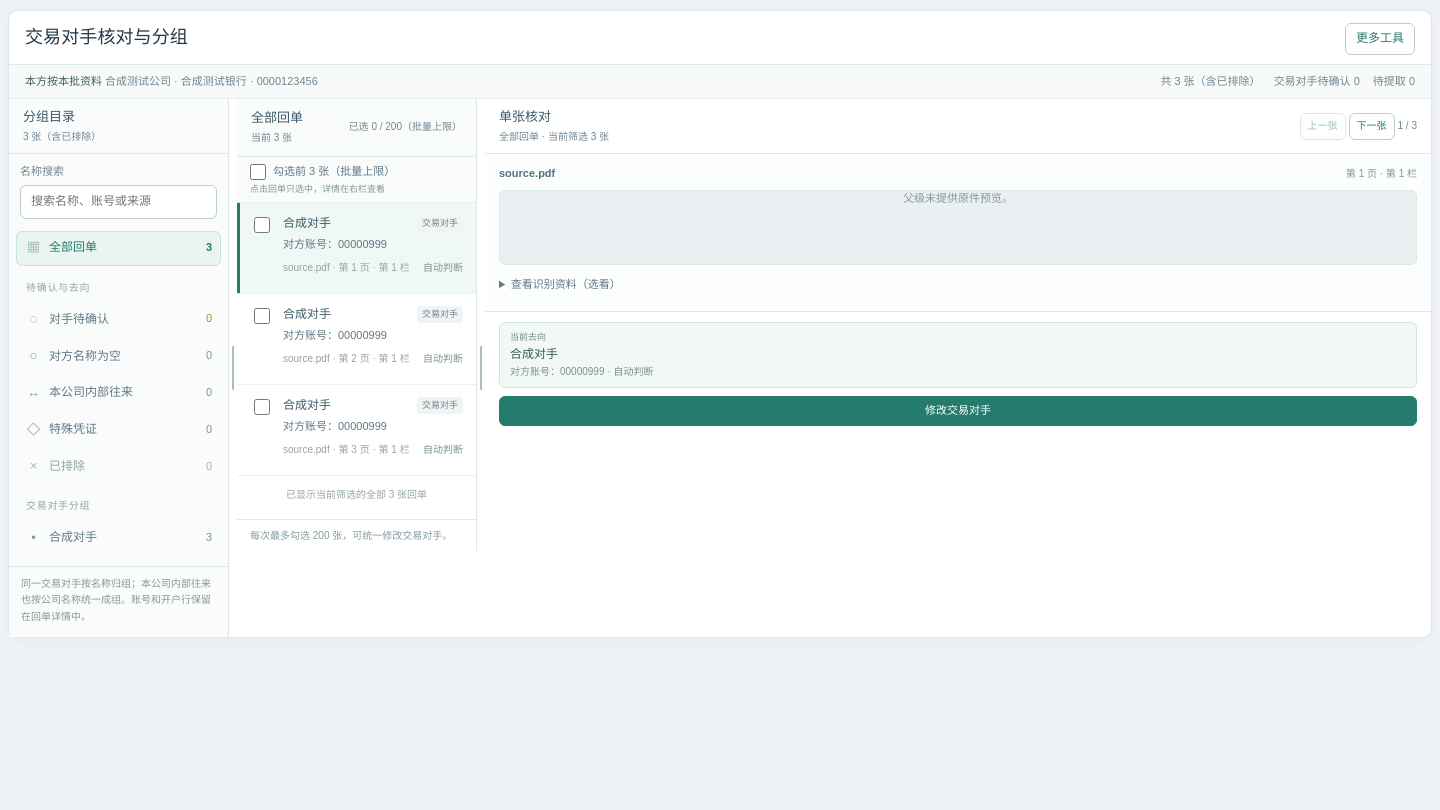
Scenario: ReceiptGroupingPanel navigation › 小于批量上限时显示实际快捷勾选数量，搜索变化清空隐形勾选
Expected: the text "共 3 张（含已排除）" is shown, [1160,74,1261,89]
Click the checkbox labelled "勾选前 3 张（批量上限）". click: x=258, y=172
box: [250,164,266,180]
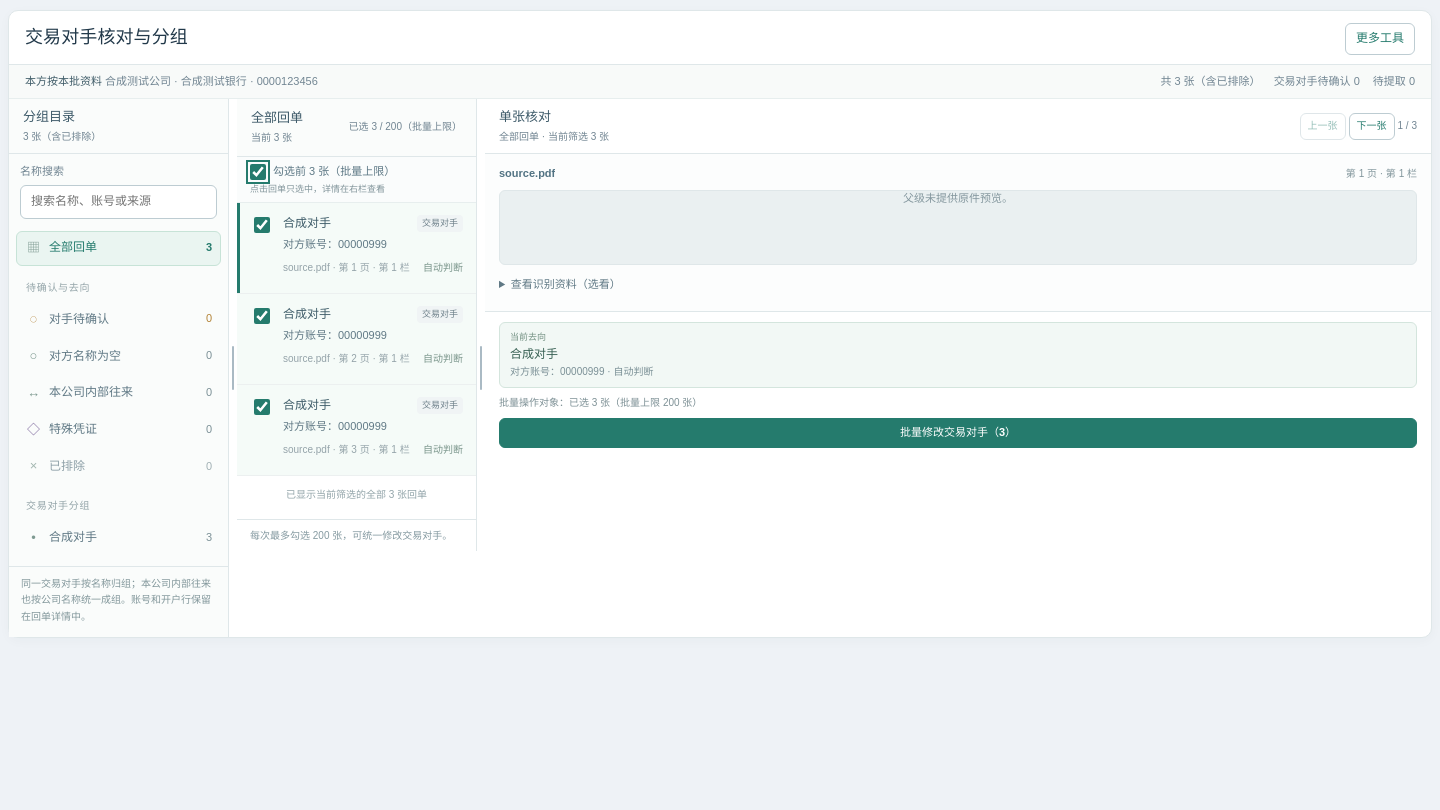
Expected: the text "已选 3 / 200（批量上限）" is shown, [349,120,462,135]
Type "不存在的名称" into the field named "分组名称搜索". click: x=118, y=202
box: [20,185,217,219]
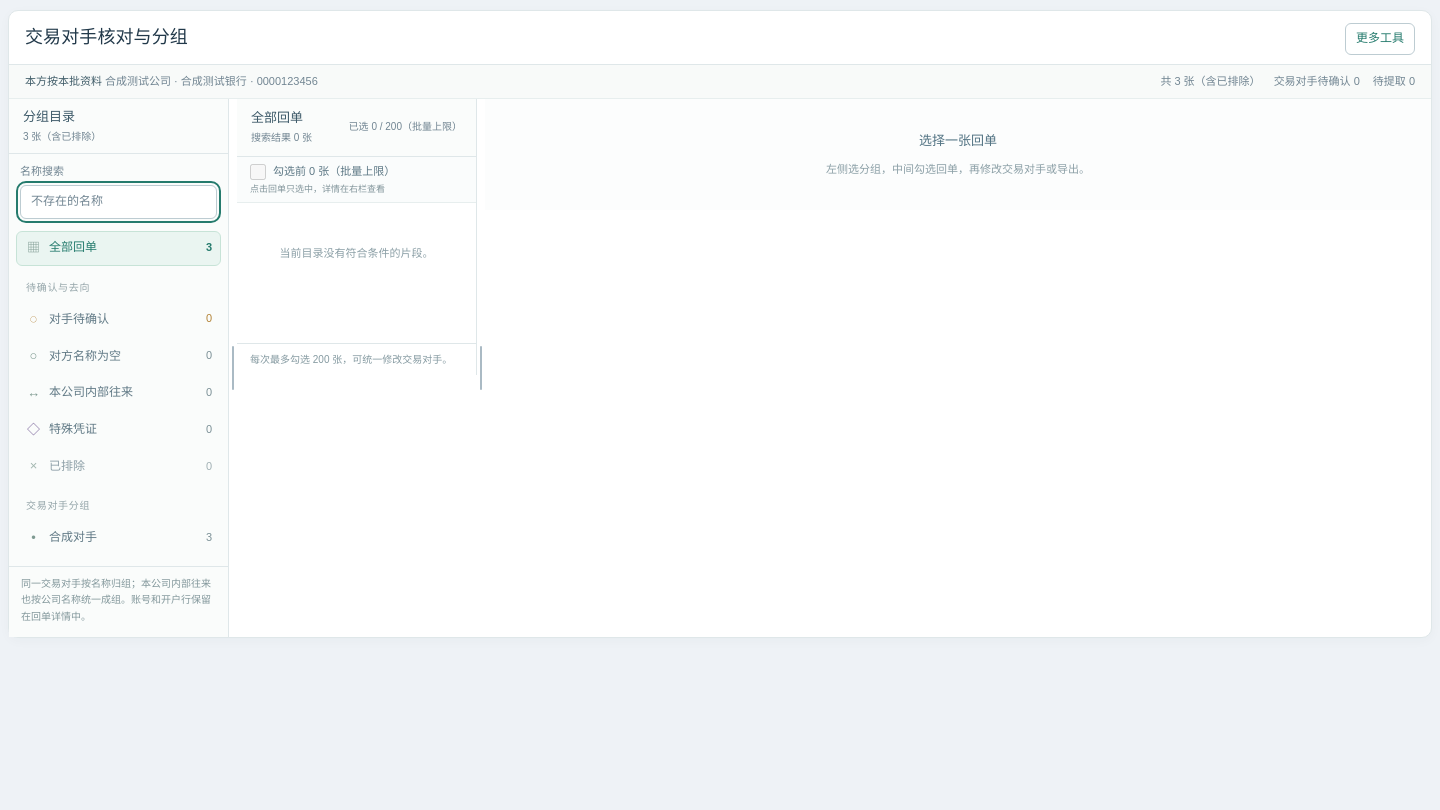
Expected: the text "已选 0 / 200（批量上限）" is shown, [349,120,462,135]
Expected: the checkbox labelled "勾选前 0 张（批量上限）" is shown, [250,164,266,180]
